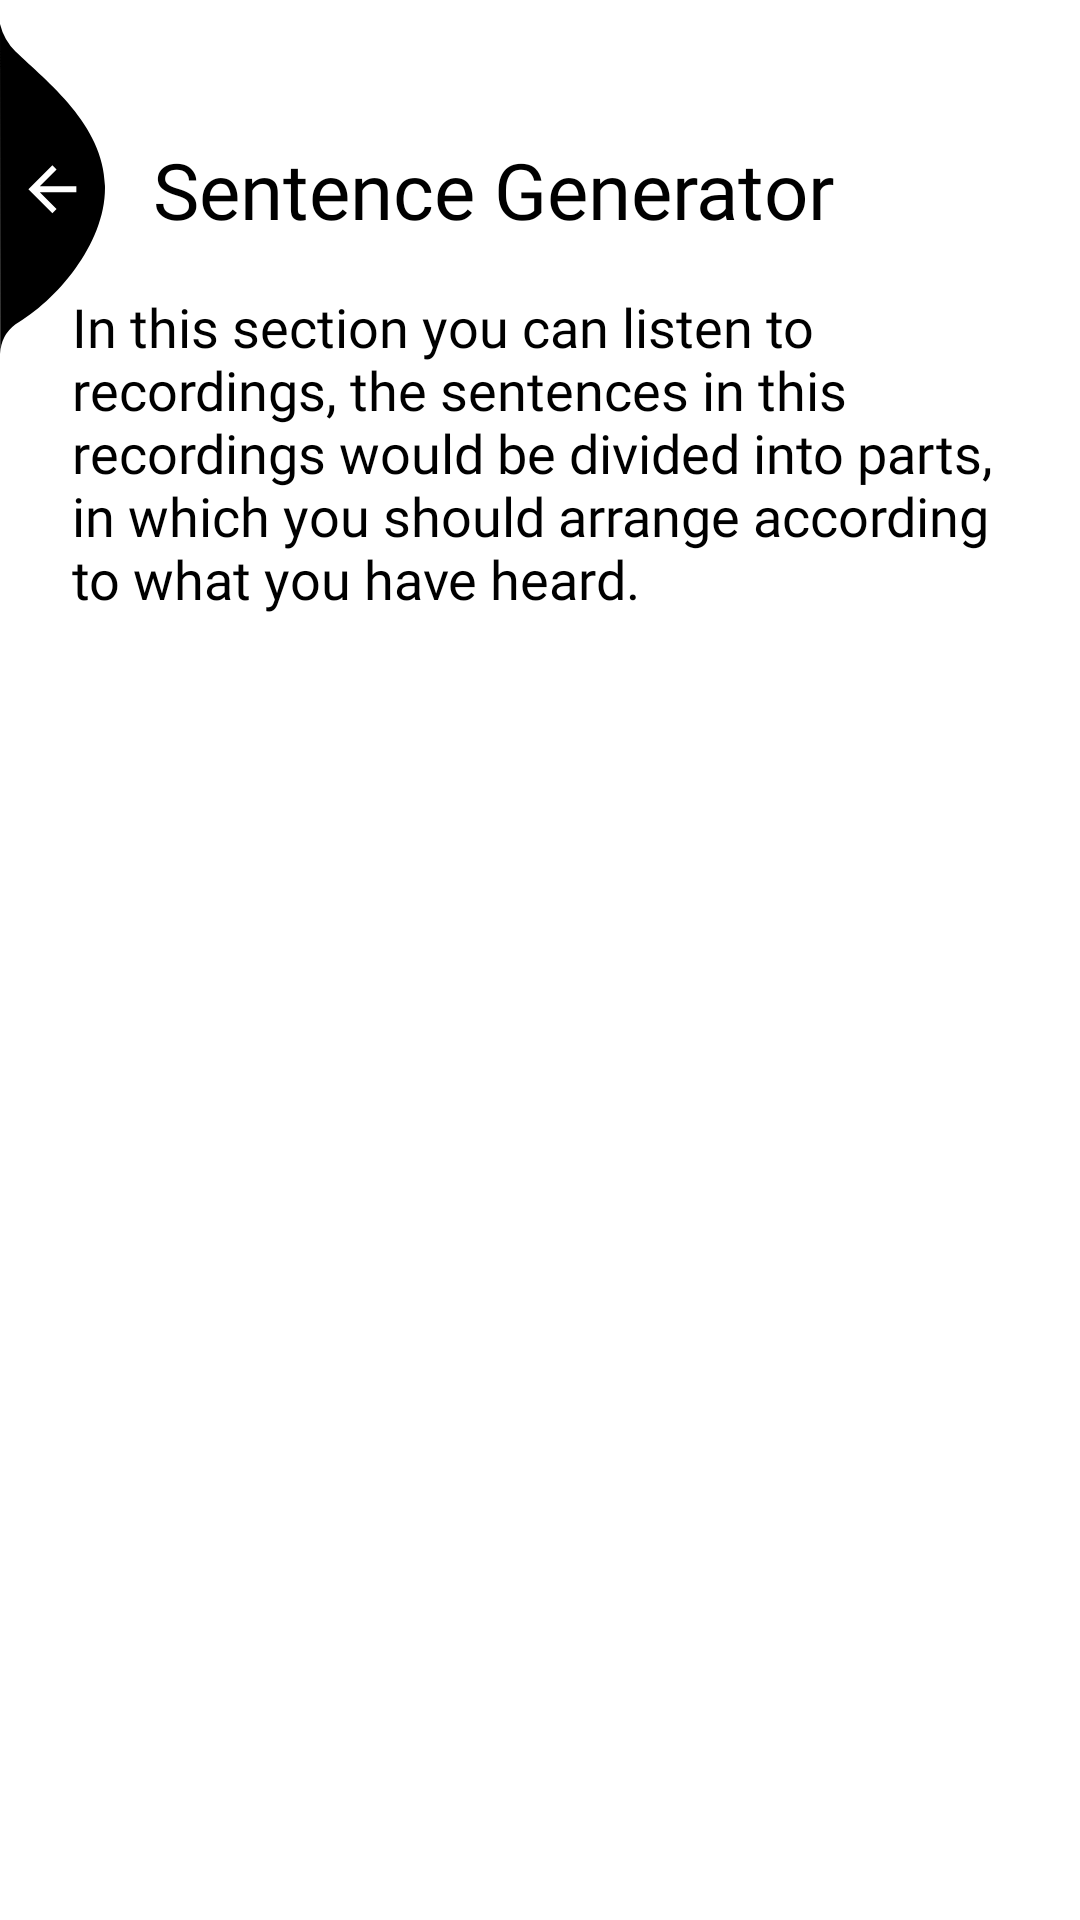

Icon bounding boxes for this 1080px×1920px phone screenshot, format BBox(x1, y1, x2, y2):
back: BBox(0, 24, 105, 353)
